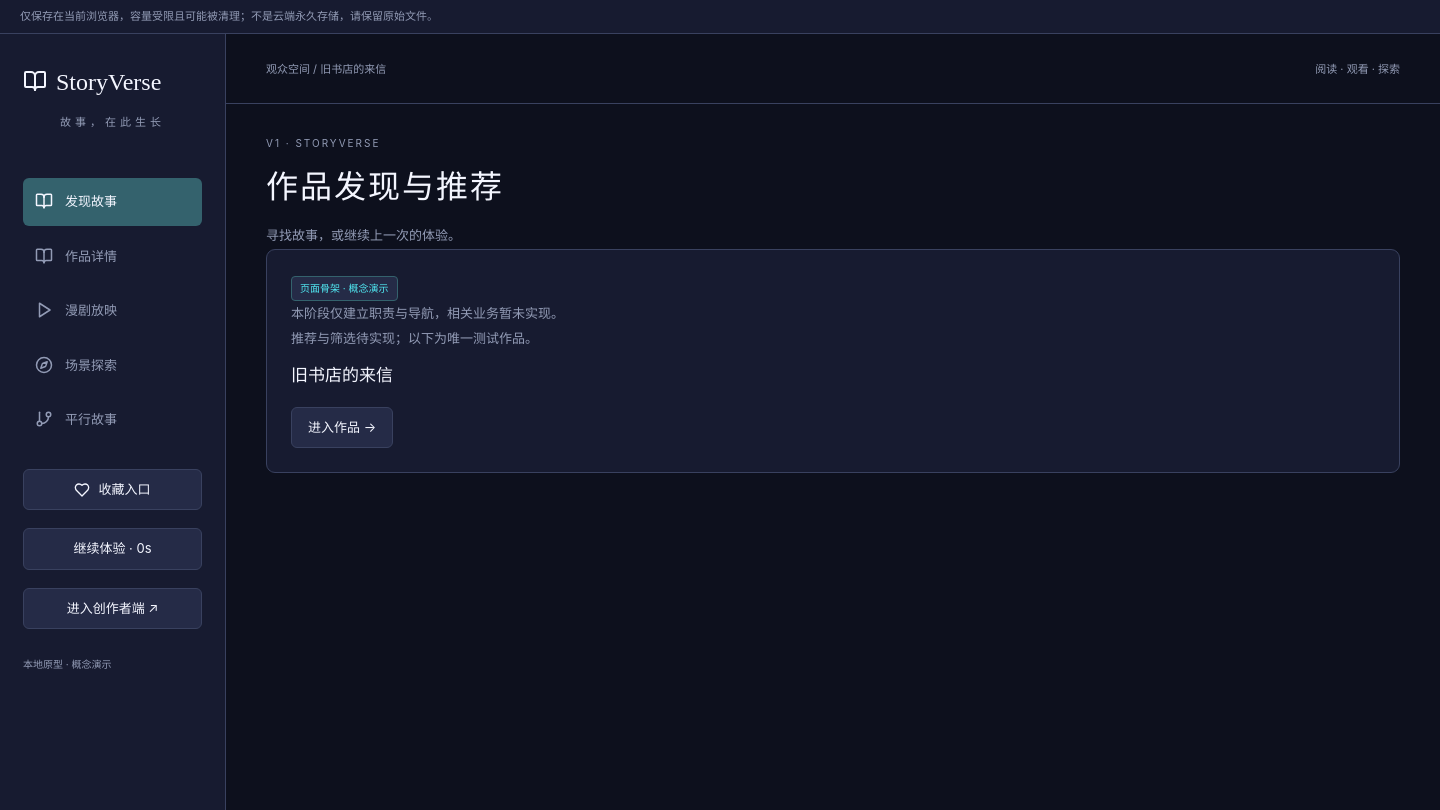
it: 收藏入口明确为骨架，不伪装已实现
Step 1. Click the link "收藏入口" → (112, 490), box 23,469 -> 202,510
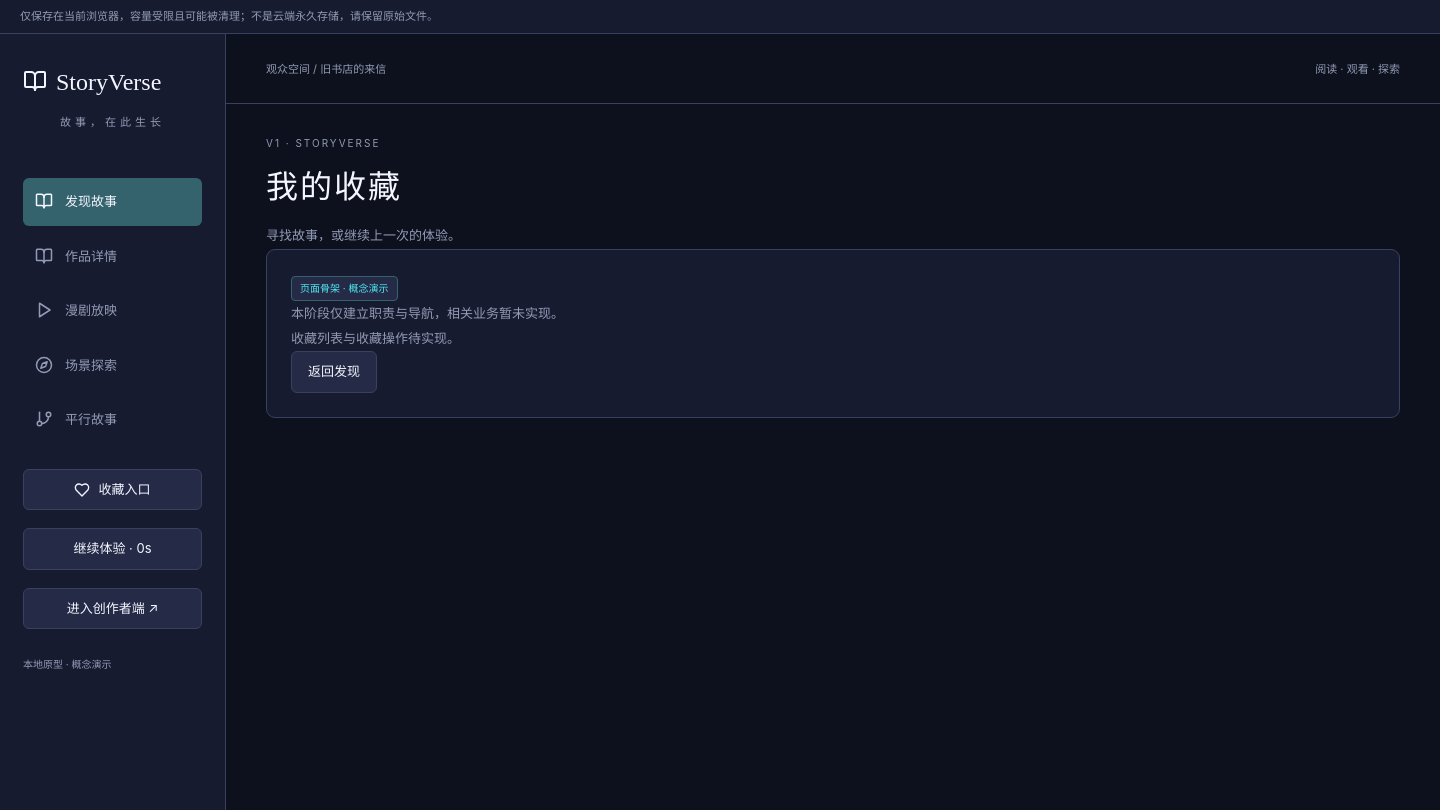
Check: the heading "我的收藏" is shown, box 266,169 -> 402,205
Check: the text "收藏列表与收藏操作待实现。" is shown, box 291,330 -> 460,346
